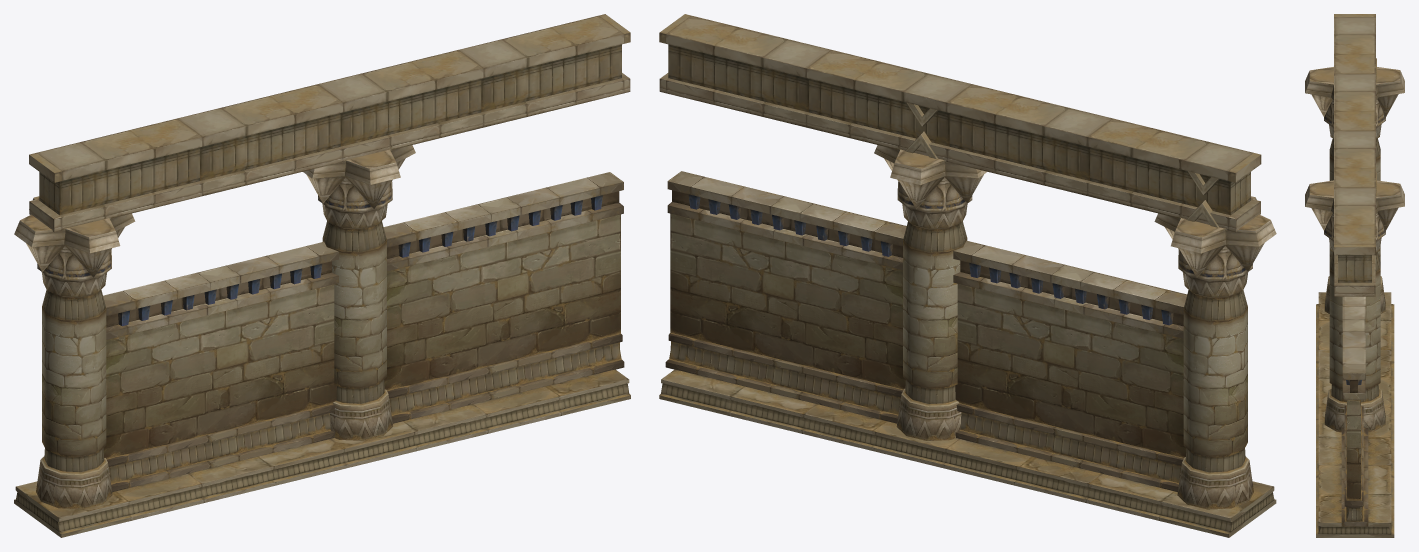
File: TelNumara_BrokenRelic.FBX
The picture shows the model from 3 angles, left to right: view 1: azimuth 30°, elevation 25°; view 2: azimuth 150°, elevation 25°; view 3: azimuth 270°, elevation 25°; orthographic projection. The views are drawn at different scales.
Parts seen in each view (by area): view 1: TelNumara_BrokenRelic; view 2: TelNumara_BrokenRelic; view 3: TelNumara_BrokenRelic.
Boxes of the visible parts, bbox=[...] form: TelNumara_BrokenRelic: bbox=[14, 14, 630, 537]; TelNumara_BrokenRelic: bbox=[659, 14, 1276, 537]; TelNumara_BrokenRelic: bbox=[1305, 14, 1404, 537].
Size of the model in its own units: 1400 by 799 by 245.
1 material, 1 textured.
